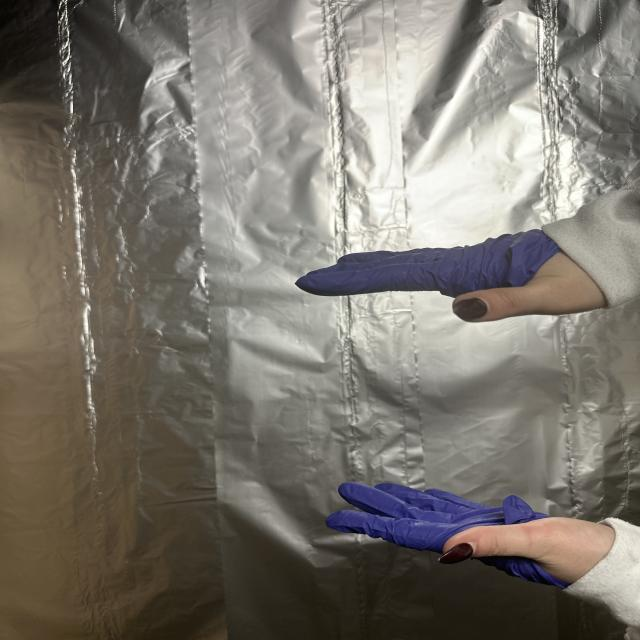glove_partial: (326, 478, 621, 590), (296, 230, 608, 322)
